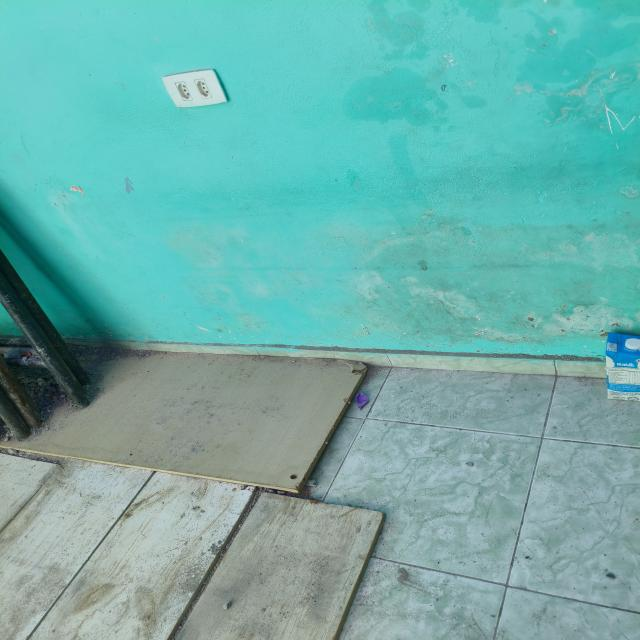Caixa de Leite: (598, 332, 640, 402)
